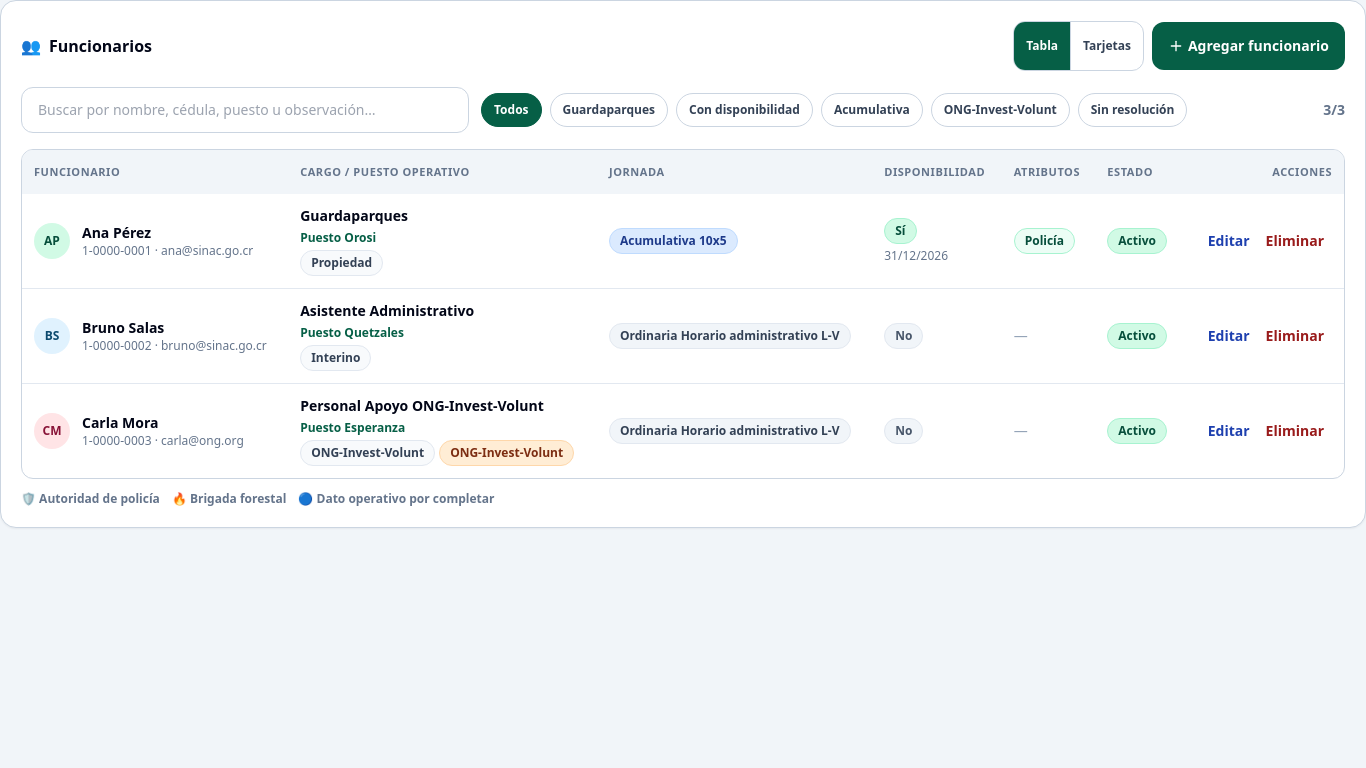
Test: Funcionarios — filtros y búsqueda › filtro 'ONG-Invest-Volunt' deja solo a Carla
The image size is (1366, 768).
Click the button "ONG-Invest-Volunt" at [1000, 110], box left=931, top=93, right=1070, bottom=127
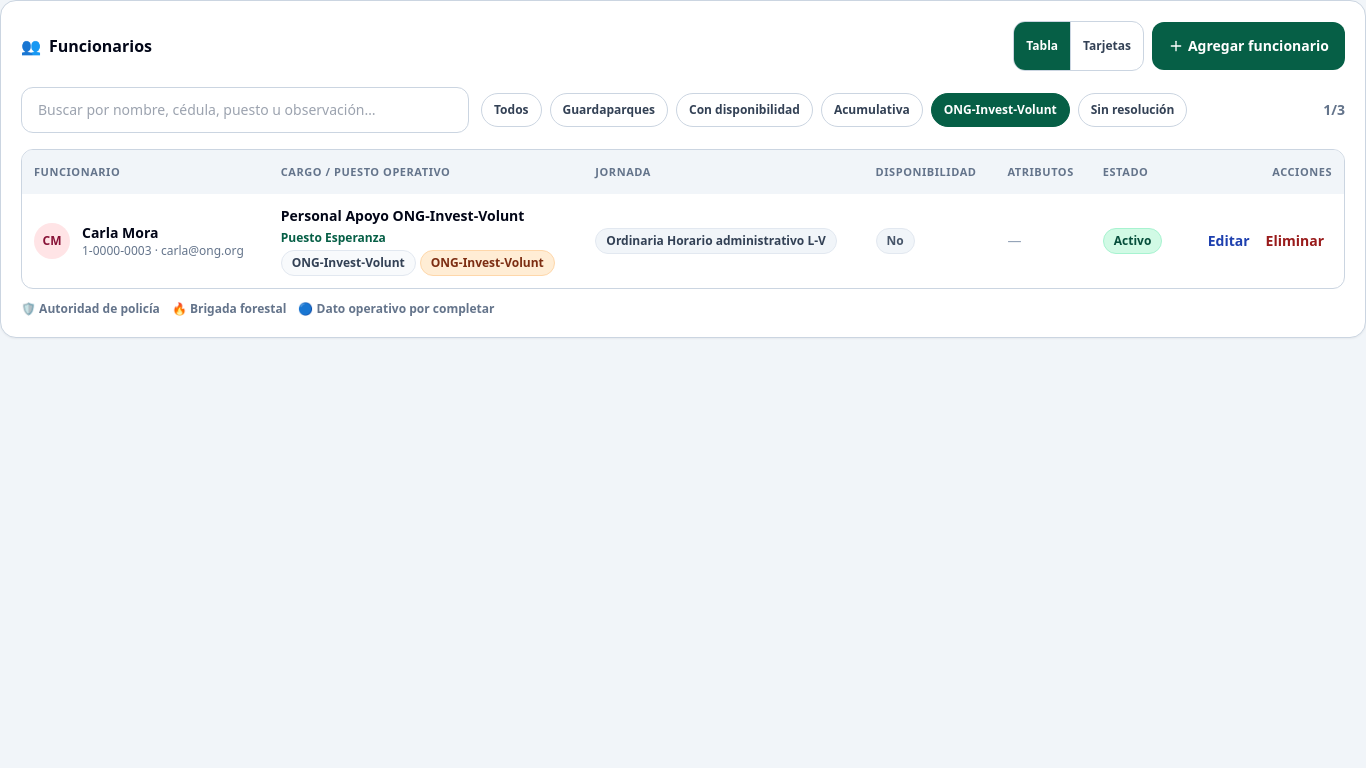
expect the text "Carla Mora" is shown: met, box left=82, top=223, right=158, bottom=242
expect the text "1/3" is shown: met, box left=1323, top=100, right=1345, bottom=120
